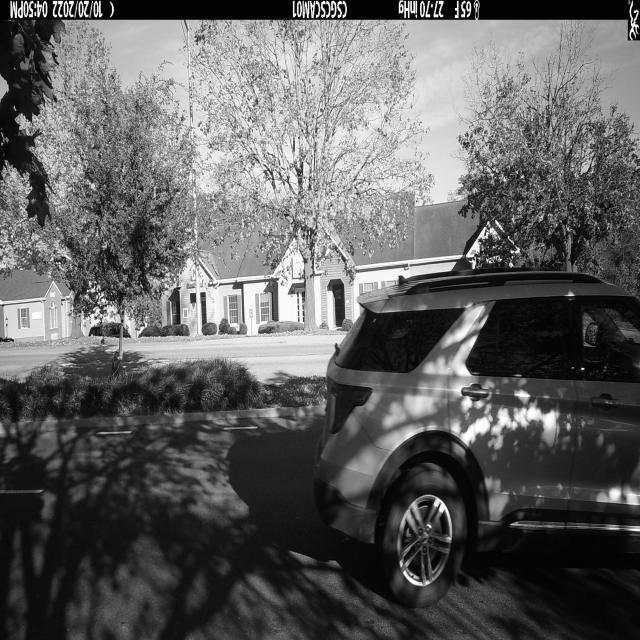SUV: (313, 269, 640, 609)
